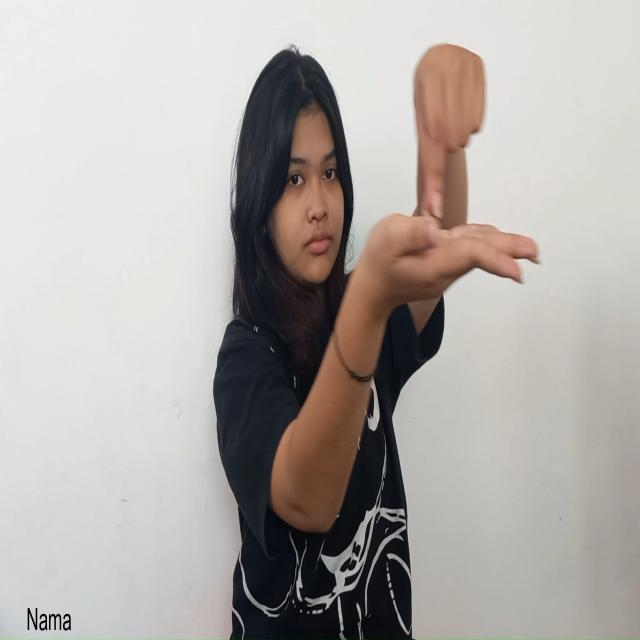Nama -BISINDO-: (363, 43, 542, 314)
